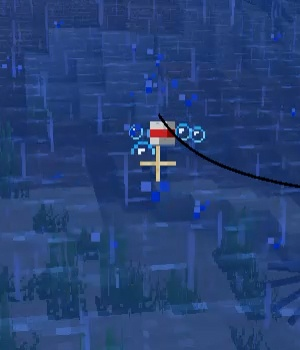up: (147, 117, 178, 169)
